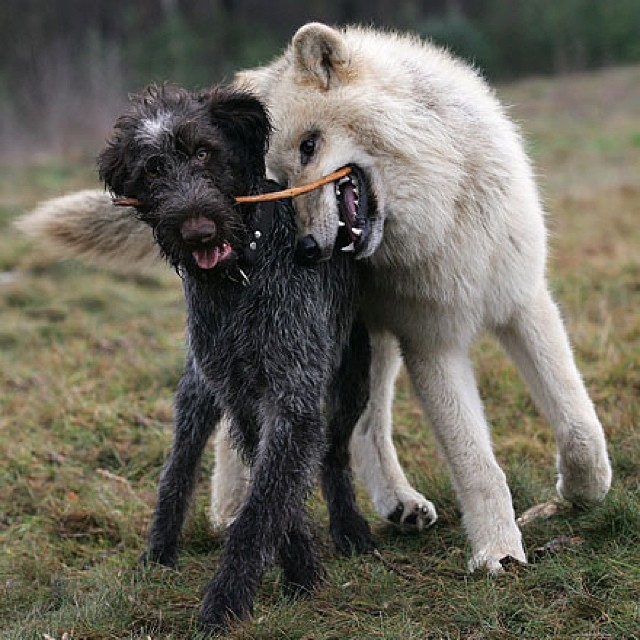dog: (95, 84, 384, 633)
wolf: (199, 23, 607, 541)
